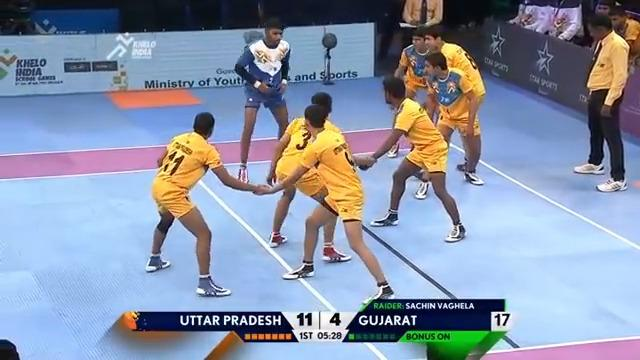Player: (253, 101, 394, 309), (144, 111, 271, 297), (351, 74, 466, 242), (267, 91, 353, 263), (414, 25, 486, 193), (572, 12, 630, 192), (385, 25, 434, 157)
Raider: (233, 17, 291, 183)
referee: (400, 0, 443, 28)
